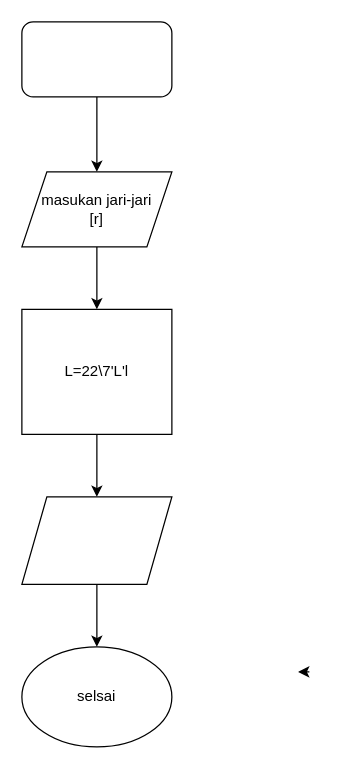
The diagram is 341 pixels wide and 769 high, and some of its shapes have lost their labels. Each missing label, with the centre of its shape:
star: the point at 96,59
tampilkan luas [L]: the point at 96,540
